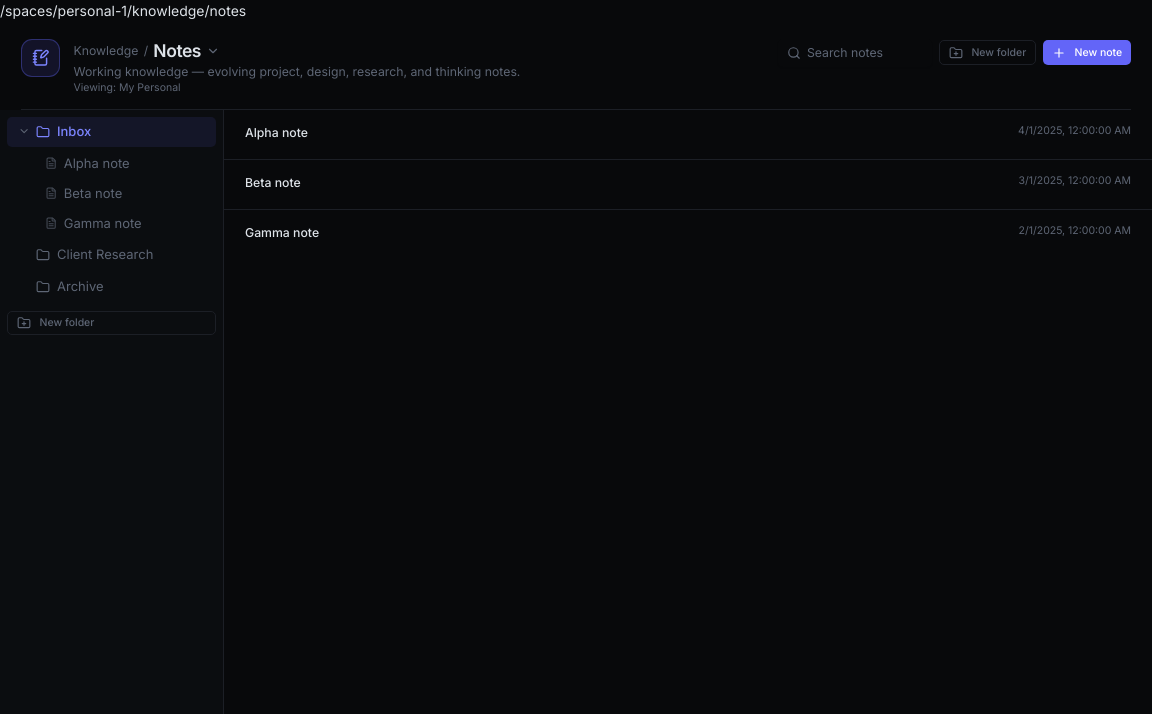
Knowledge routing › keeps the notes a bulk delete did not reach and drops the ones it did
Click the button "Alpha note" at (112,163), box [10,150,212,176]
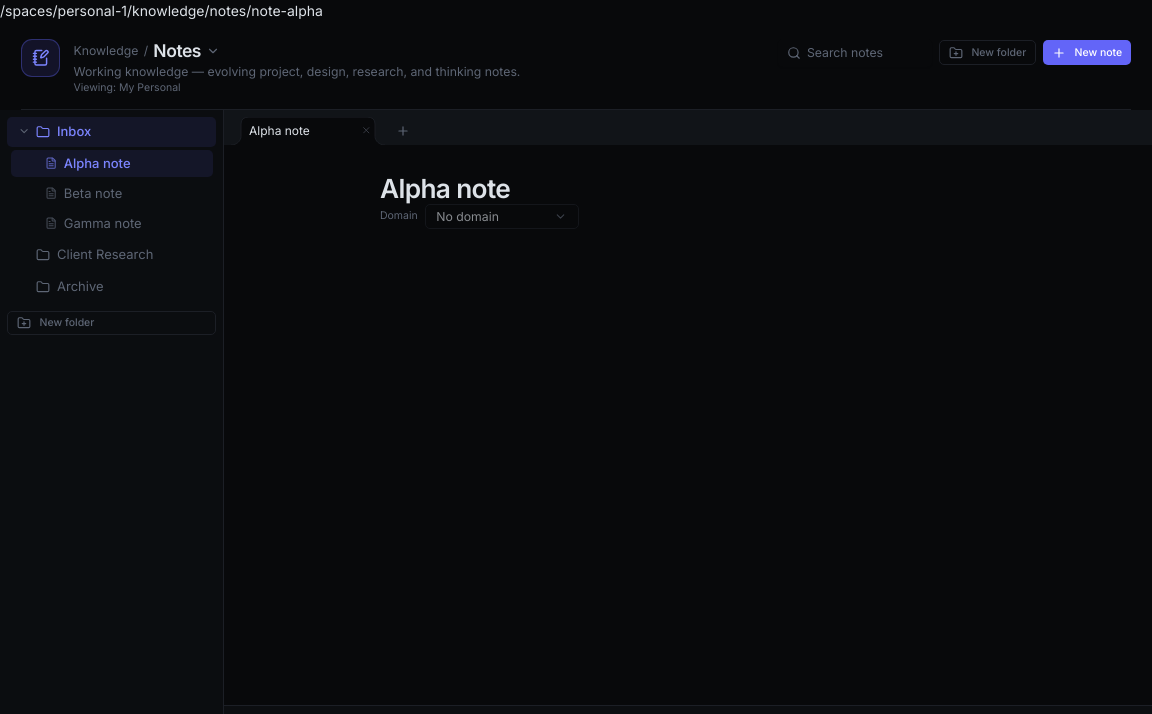
Expected: the text with test id "loc" reads "/spaces/personal-1/knowledge/notes/note-alpha", [0,2,323,19]
Click the button "Gamma note" at (112,223), box [10,210,212,236]
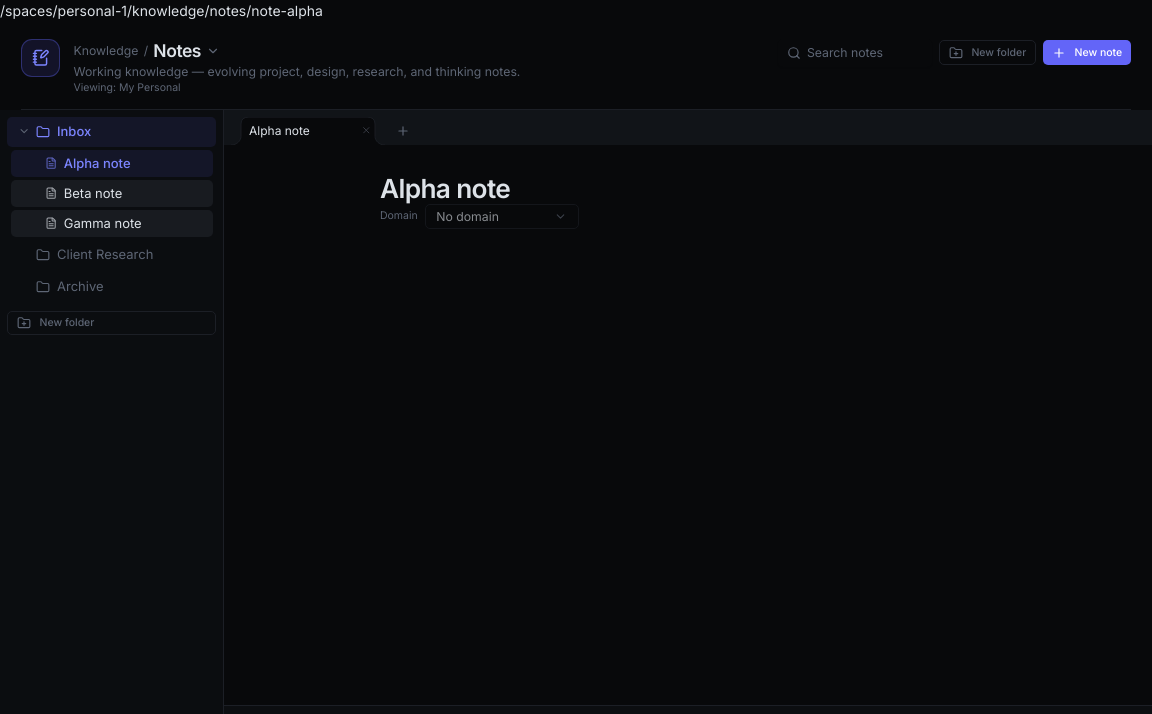
Press Delete in the button "Gamma note", box [10,210,212,236]
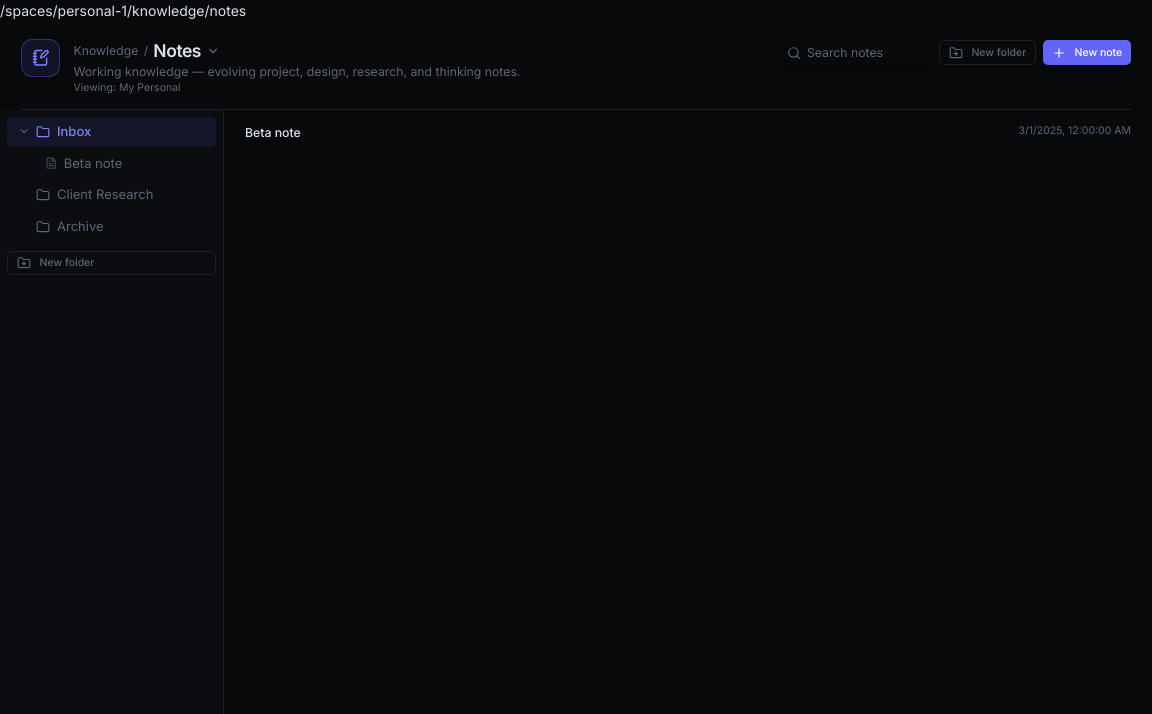
Expected: the button "Beta note" is shown, [10,150,212,176]
Expected: the button "Alpha note" is gone
Expected: the button "Gamma note" is gone
